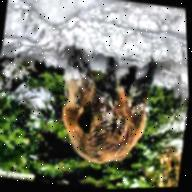boar: (41, 35, 165, 180)
